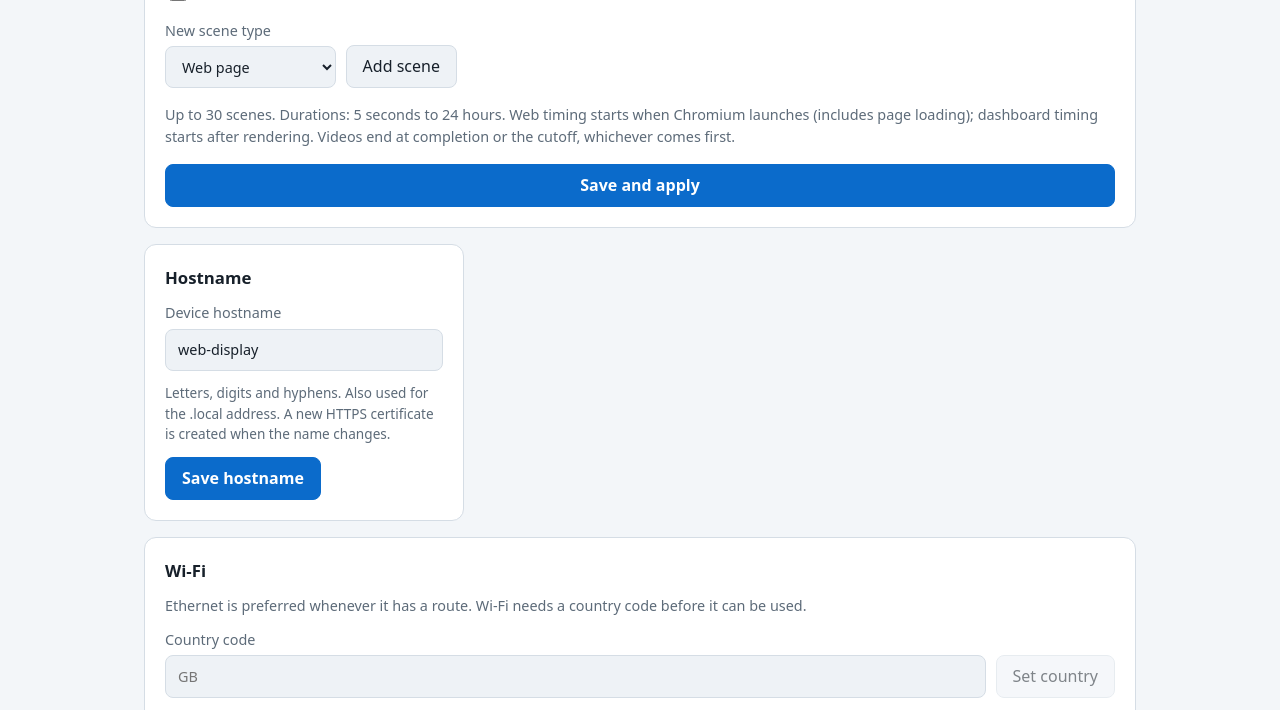
Test case: renaming the device posts the validated hostname
The width and height of the screenshot is (1280, 710).
(page scrolled)
Replace the text in the field labelled "Device hostname" with "Lobby" at coordinates (304, 350), box [165,329,443,372]
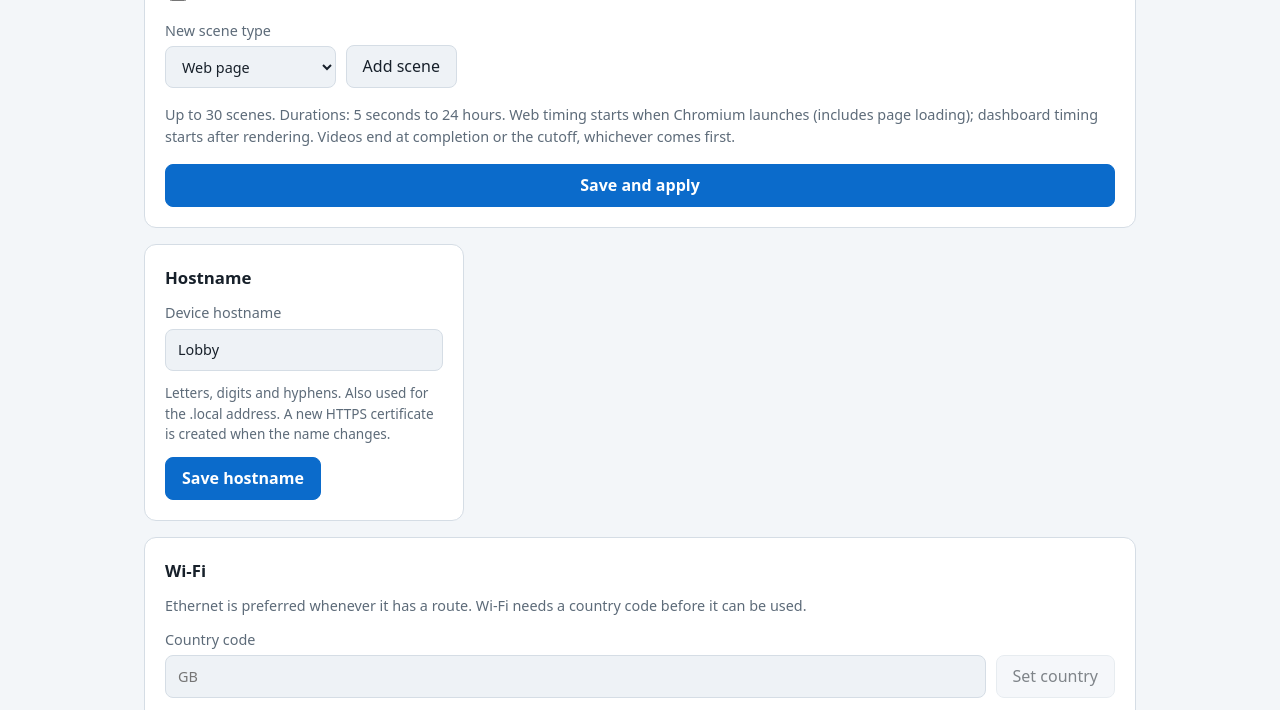
Click the button "Save hostname" at coordinates (243, 478), box [165,457,321,500]
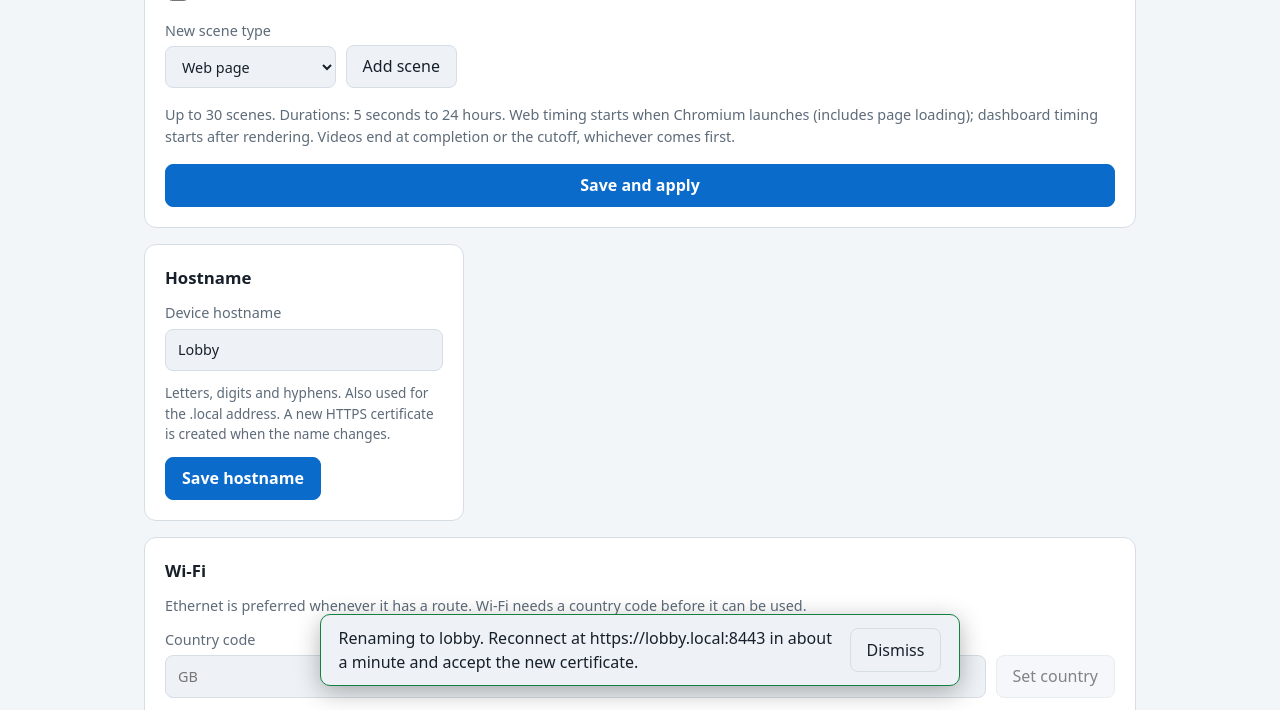
Now the text "lobby.local:8443" is shown, box [339,627,832,673]
